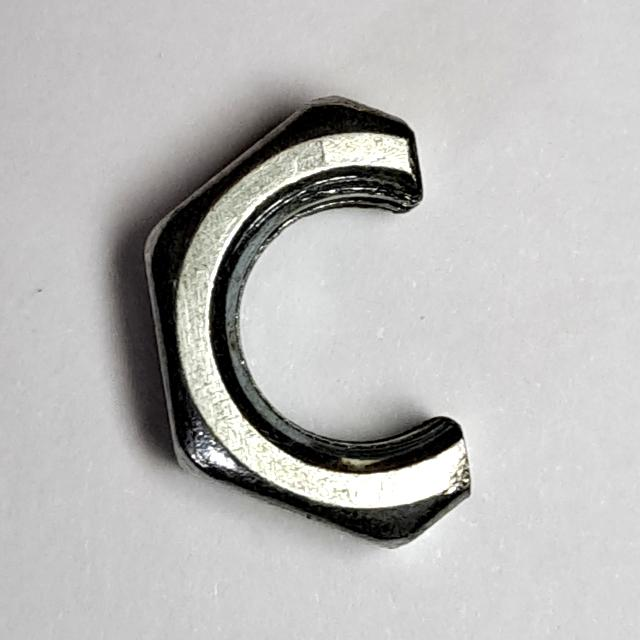Fracture: (130, 81, 503, 567)
